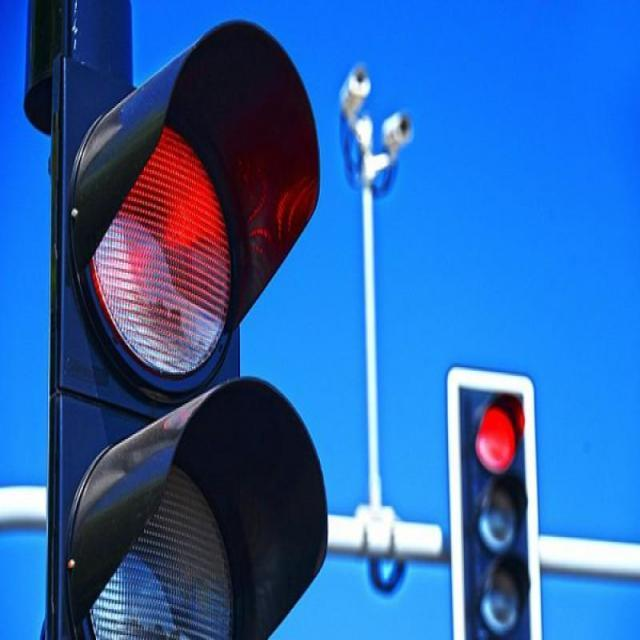red_light: (62, 51, 285, 640), (465, 387, 532, 640)
